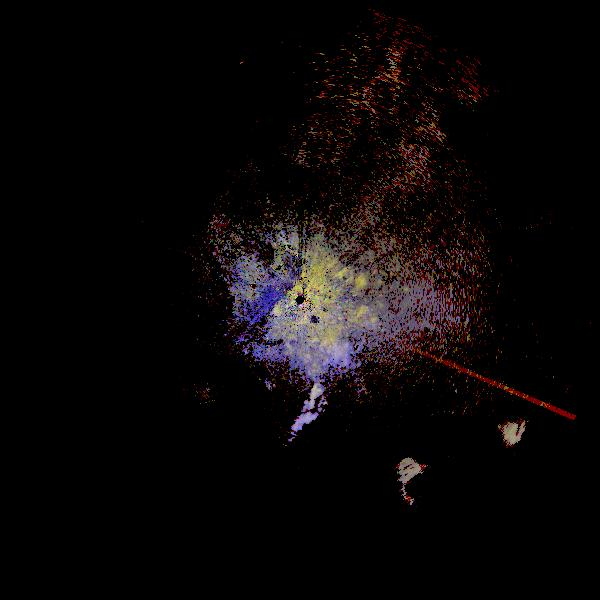roost: (383, 412, 512, 541), (236, 334, 350, 448)
